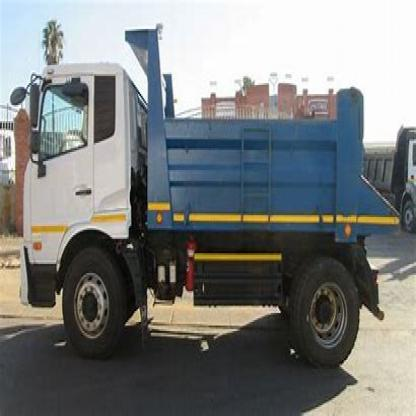dump_truck: (4, 11, 401, 380)
